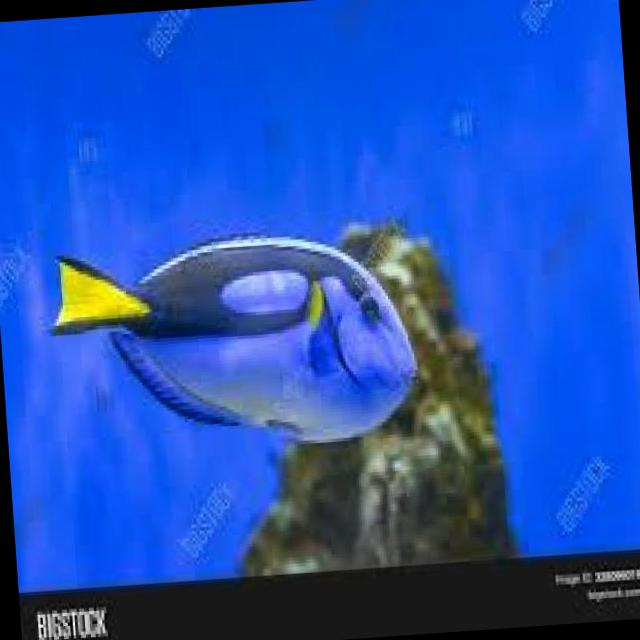TangFish: (51, 220, 420, 462)
